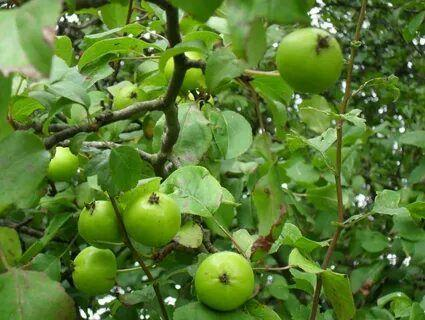Apple: (276, 29, 342, 90), (196, 252, 255, 310), (123, 192, 180, 245), (67, 247, 116, 293)
